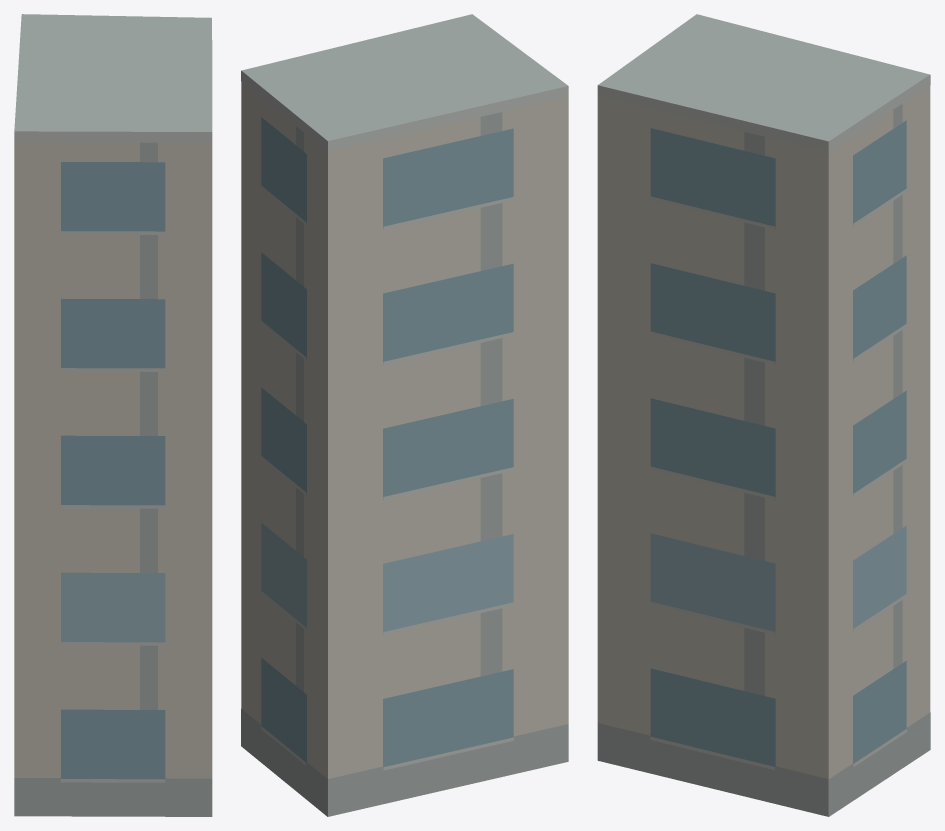
File: survey-upis-32740760.glb
3 renders of one model, left to right at view 1: azimuth 30°, elevation 25°; view 2: azimuth 150°, elevation 25°; view 3: azimuth 270°, elevation 25°, orthographic.
Visible parts, largest first — view 1: survey-upis-32740760.tmp; view 2: survey-upis-32740760.tmp; view 3: survey-upis-32740760.tmp.
Part boxes in pixels (box(x1,y1,x2,y2)): survey-upis-32740760.tmp: box(14, 14, 212, 816); survey-upis-32740760.tmp: box(241, 14, 568, 816); survey-upis-32740760.tmp: box(597, 14, 930, 816).
Size of the model in its own units: 6.18 by 15.25 by 6.81.
